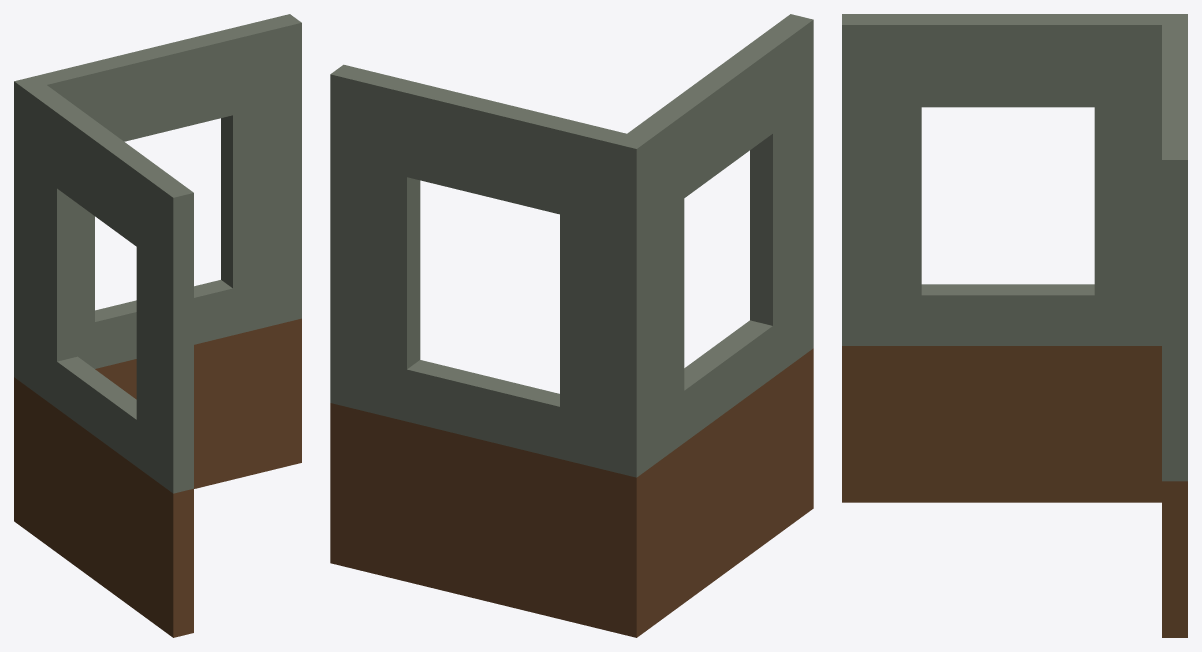
Rendered from Building_25.fbx.
The picture shows the model from 3 angles, left to right: view 1: azimuth 30°, elevation 25°; view 2: azimuth 150°, elevation 25°; view 3: azimuth 270°, elevation 25°; orthographic projection. The views are drawn at different scales.
Parts seen in each view (by area): view 1: Building_25; view 2: Building_25; view 3: Building_25.
Part boxes in pixels (bbox=[...]): Building_25: bbox=[14, 14, 301, 637]; Building_25: bbox=[330, 14, 813, 637]; Building_25: bbox=[842, 14, 1187, 637].
Size of the model in its own units: 162 by 247 by 162.
Materials: 1 (1 with a texture image).
